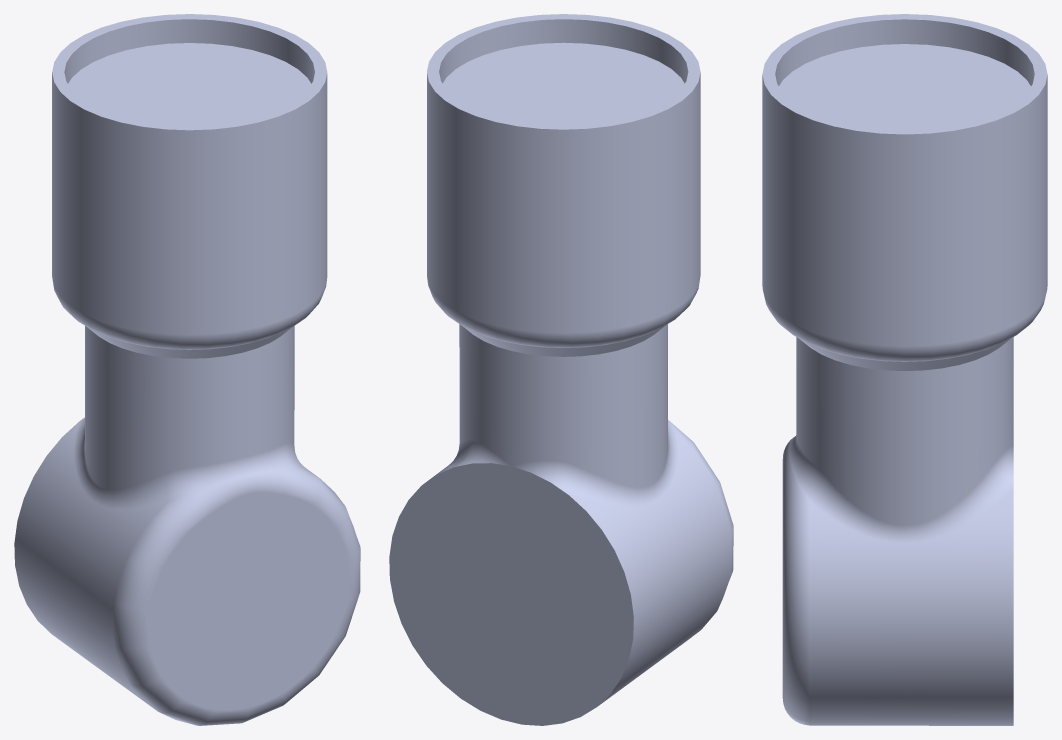
3 renders of one model, left to right at view 1: azimuth 30°, elevation 25°; view 2: azimuth 150°, elevation 25°; view 3: azimuth 270°, elevation 25°, orthographic. The views are drawn at different scales.
Visible parts, largest first — view 1: Link-4; view 2: Link-4; view 3: Link-4.
Boxes of the visible parts, x1,y1,x2,y2 form: Link-4: (14,14,360,725); Link-4: (389,14,733,725); Link-4: (762,14,1047,725).
Bounding box in the file's own units: 0.1084 × 0.2592 × 0.105.
